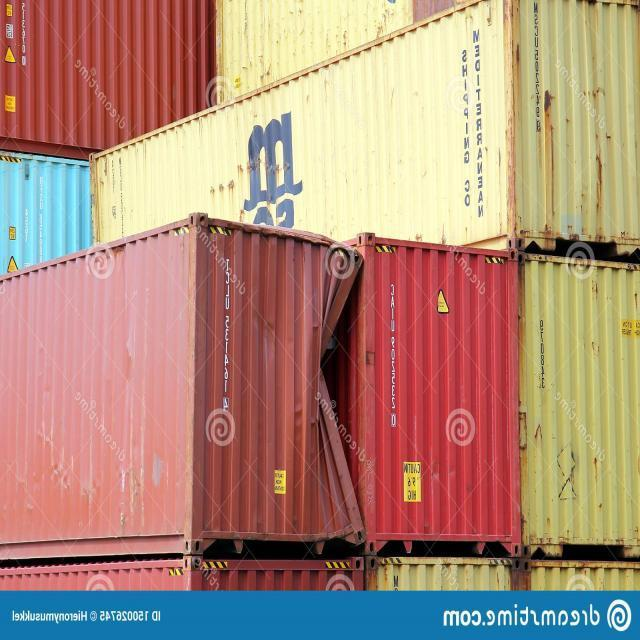dent: (297, 224, 374, 578)
